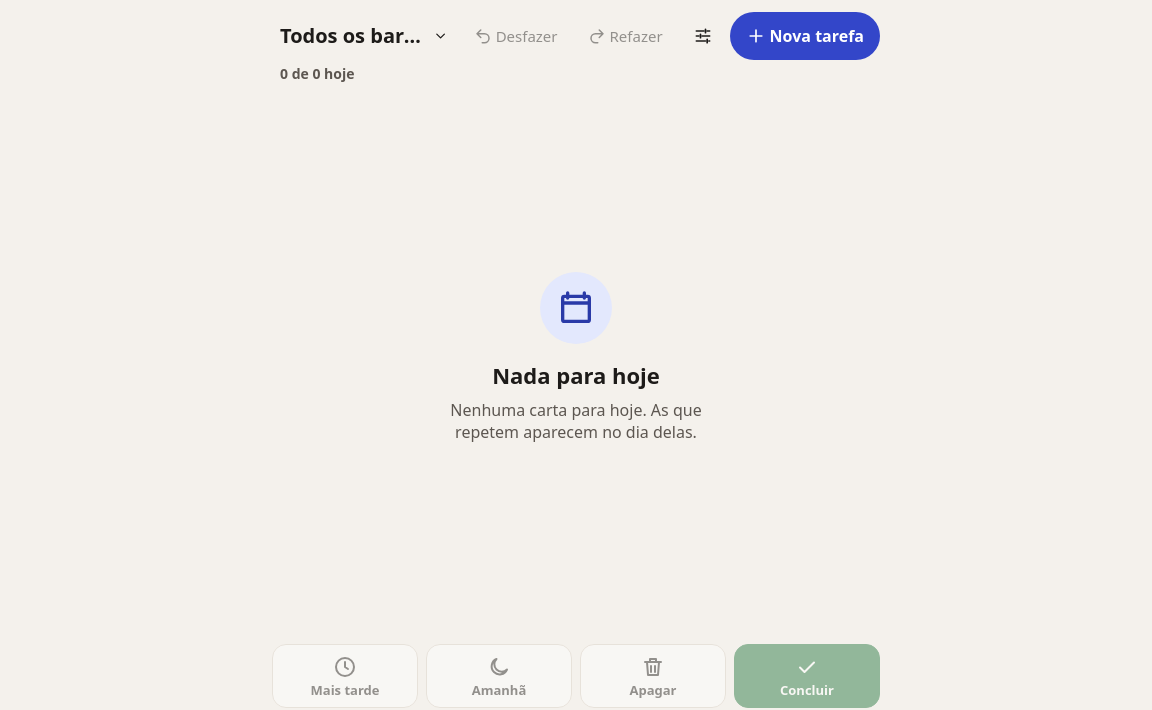
Test: install and offline status in settings › shows the iOS hint, and persists its dismissal
Click the button named "Configurações". click: (703, 36)
box: [680, 12, 726, 60]
(page scrolled)
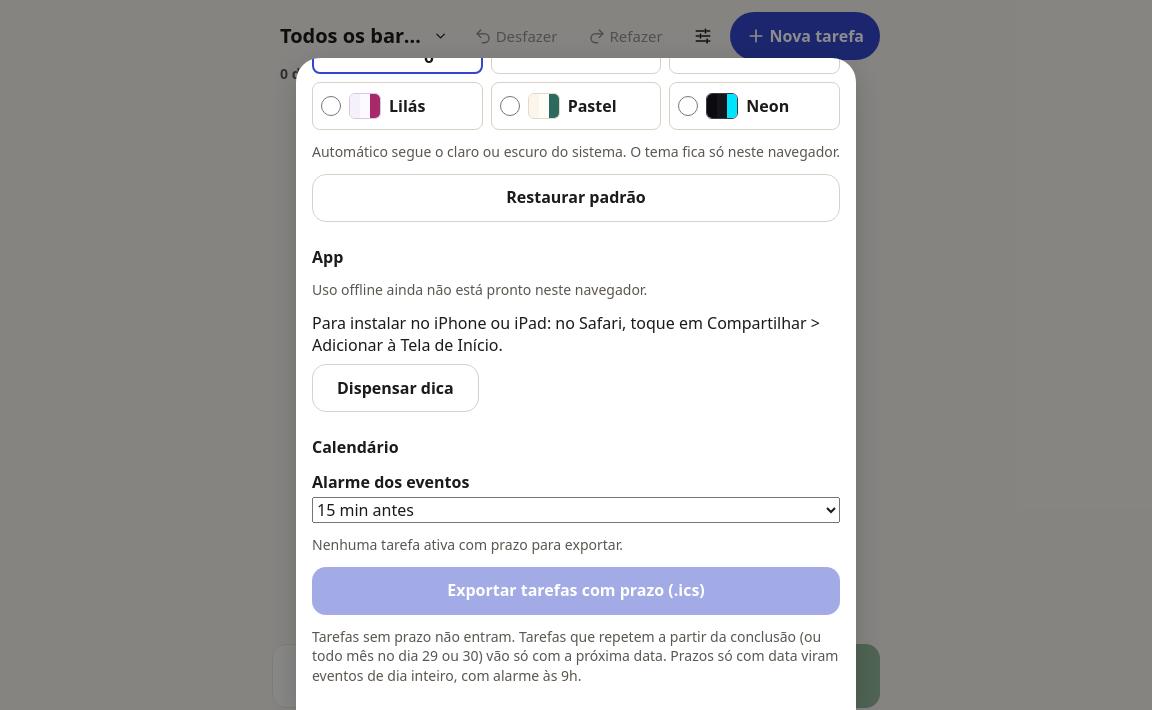
Expected: the text "Compartilhar > Adicionar à Tela de Início" is shown, [312, 312, 820, 356]
Click the button "Dispensar dica". click: (395, 388)
box: [312, 364, 479, 412]
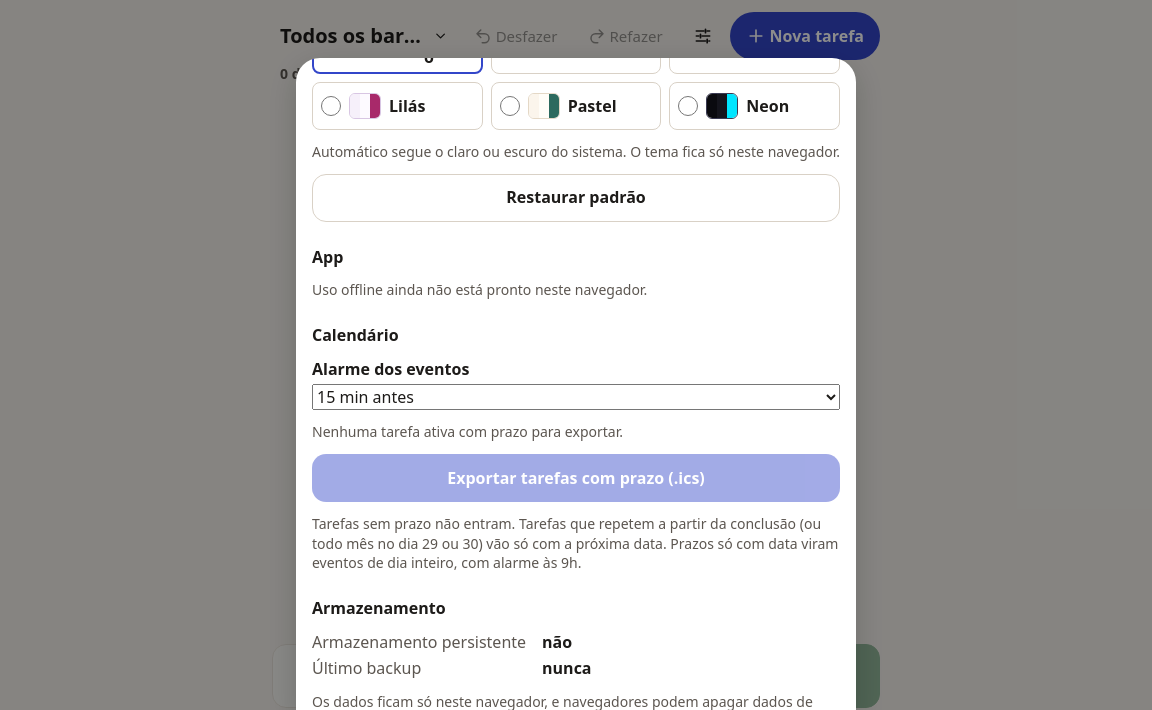
Expected: the text "Adicionar à Tela de Início" is gone
